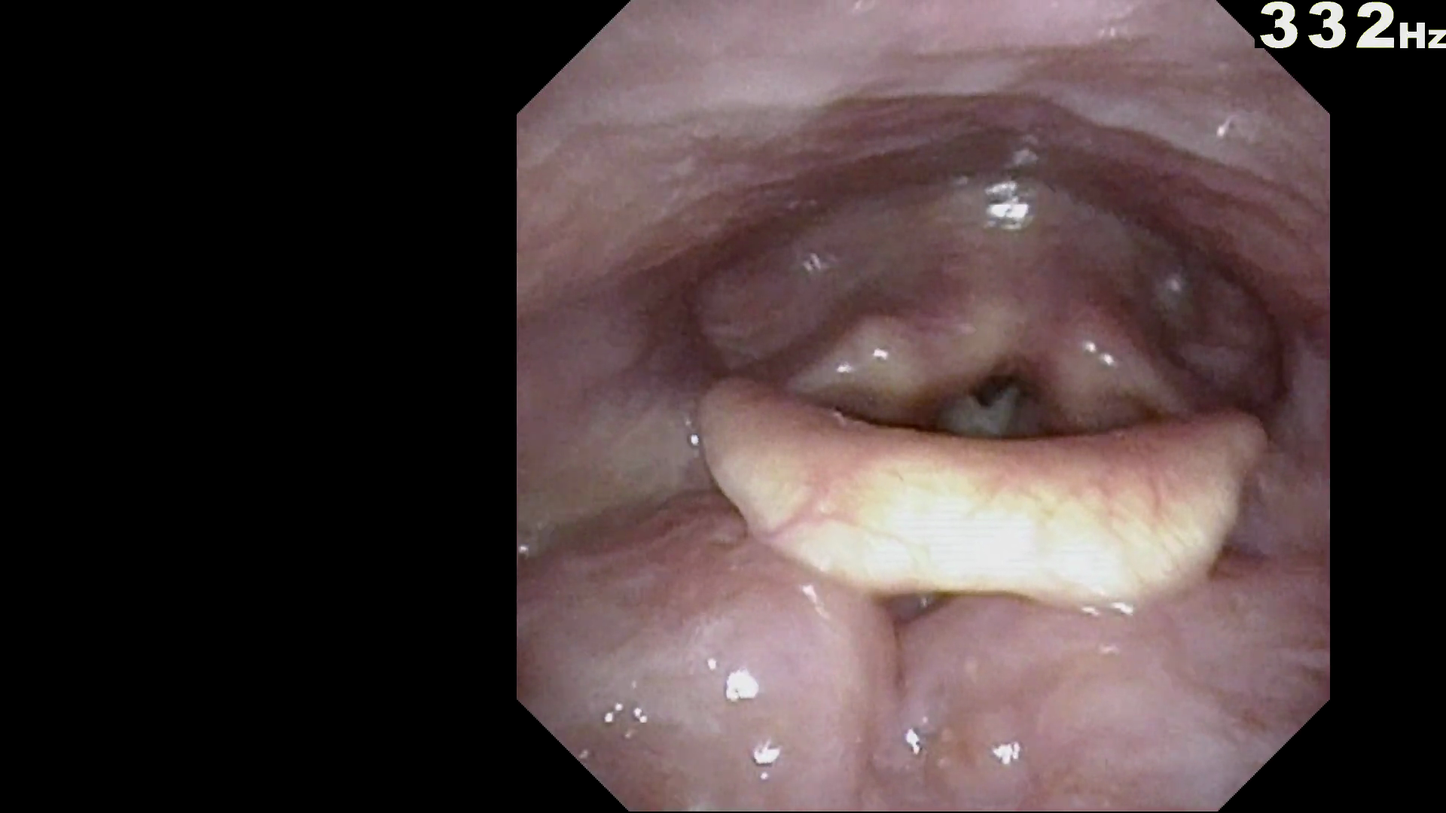epiglottis: (681, 356, 1283, 609)
trachea: (928, 323, 1075, 478)
